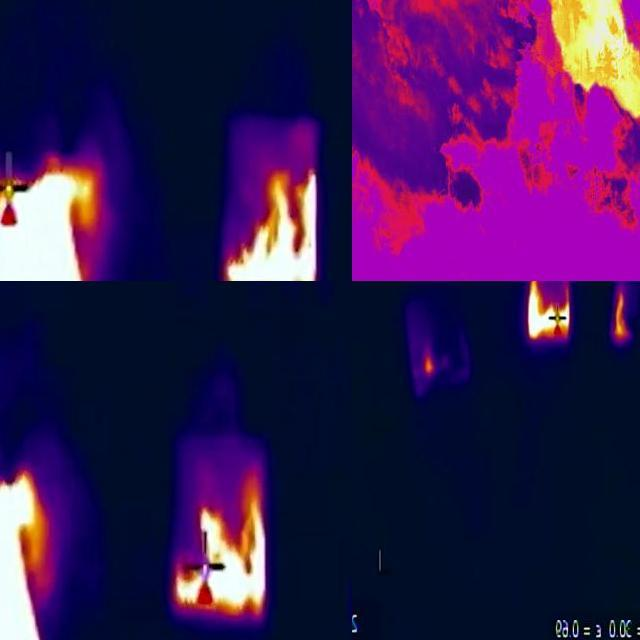fire: (172, 478, 266, 623), (1, 151, 101, 282), (549, 1, 640, 121), (225, 166, 319, 282), (1, 470, 49, 640), (524, 282, 572, 343), (413, 342, 449, 388), (609, 283, 632, 345)
